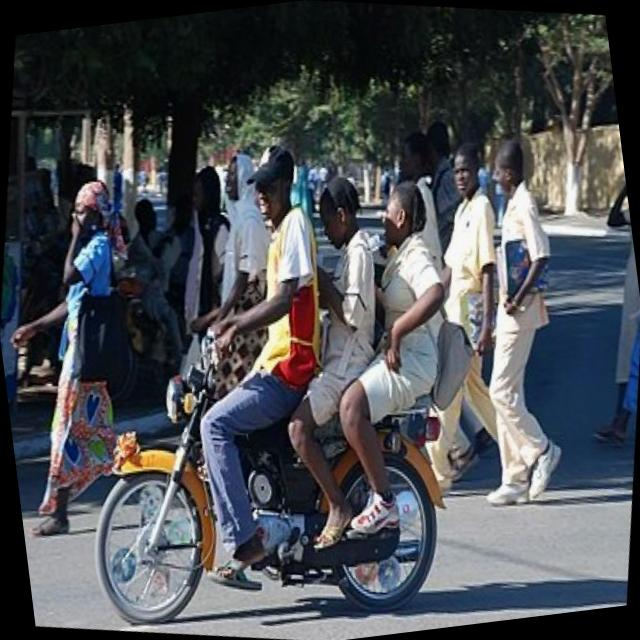motorcycle: (61, 291, 478, 640)
person: (269, 163, 410, 470), (355, 175, 475, 518), (226, 132, 340, 488)
rider_region: (40, 125, 486, 640)
